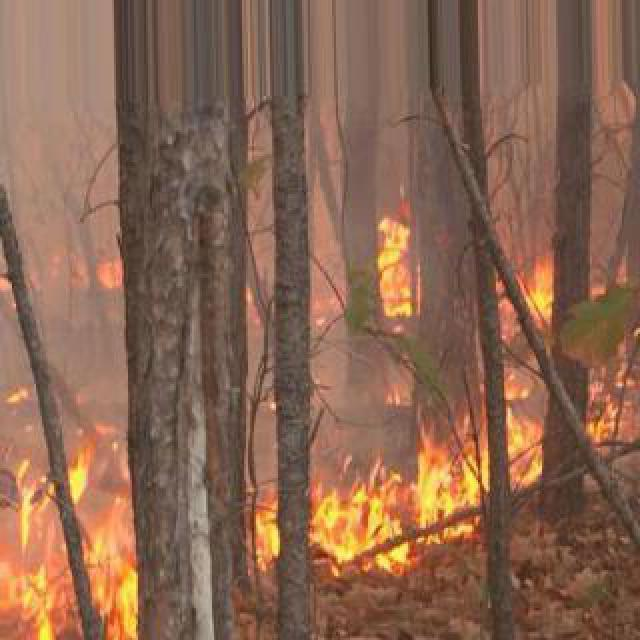Fire: (1, 418, 144, 639), (310, 410, 486, 572), (364, 206, 430, 334)
